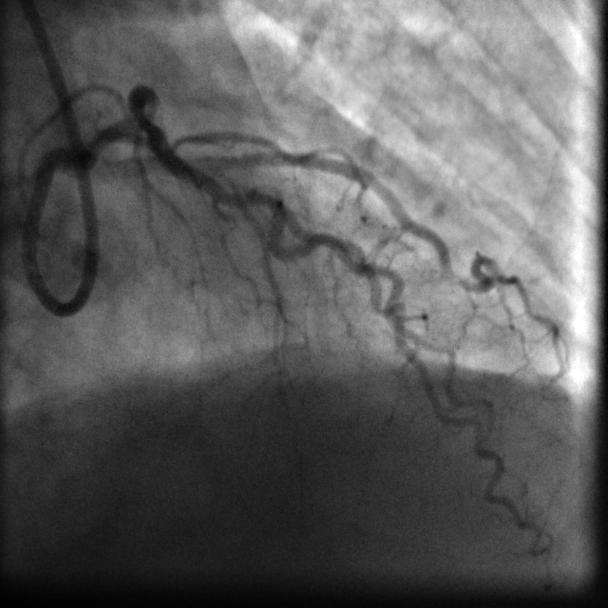Stenosis: (127, 94, 156, 141)
